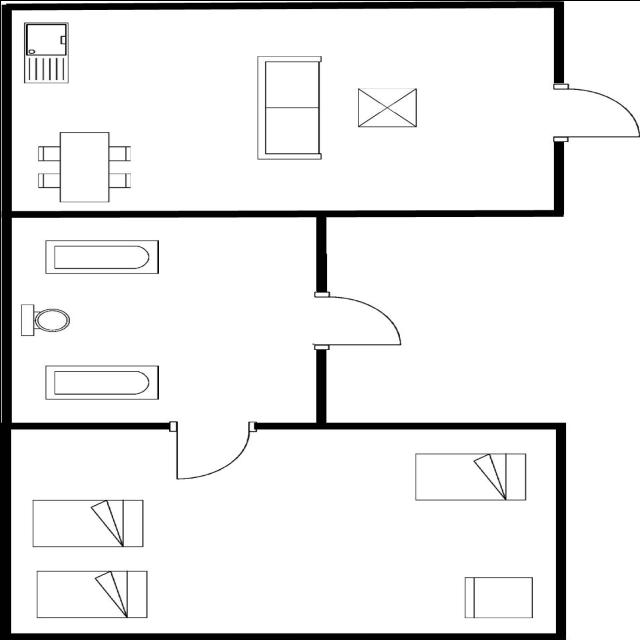bed: (410, 449, 532, 504), (32, 568, 152, 620), (33, 496, 148, 550)
coffee_table: (352, 85, 422, 129)
dining_table: (34, 128, 137, 205)
large_sink: (17, 299, 72, 339)
large_sofa: (252, 52, 326, 162)
sink: (17, 19, 74, 86)
small_sofa: (458, 574, 538, 620)
tub: (41, 362, 164, 402), (41, 236, 164, 276)
